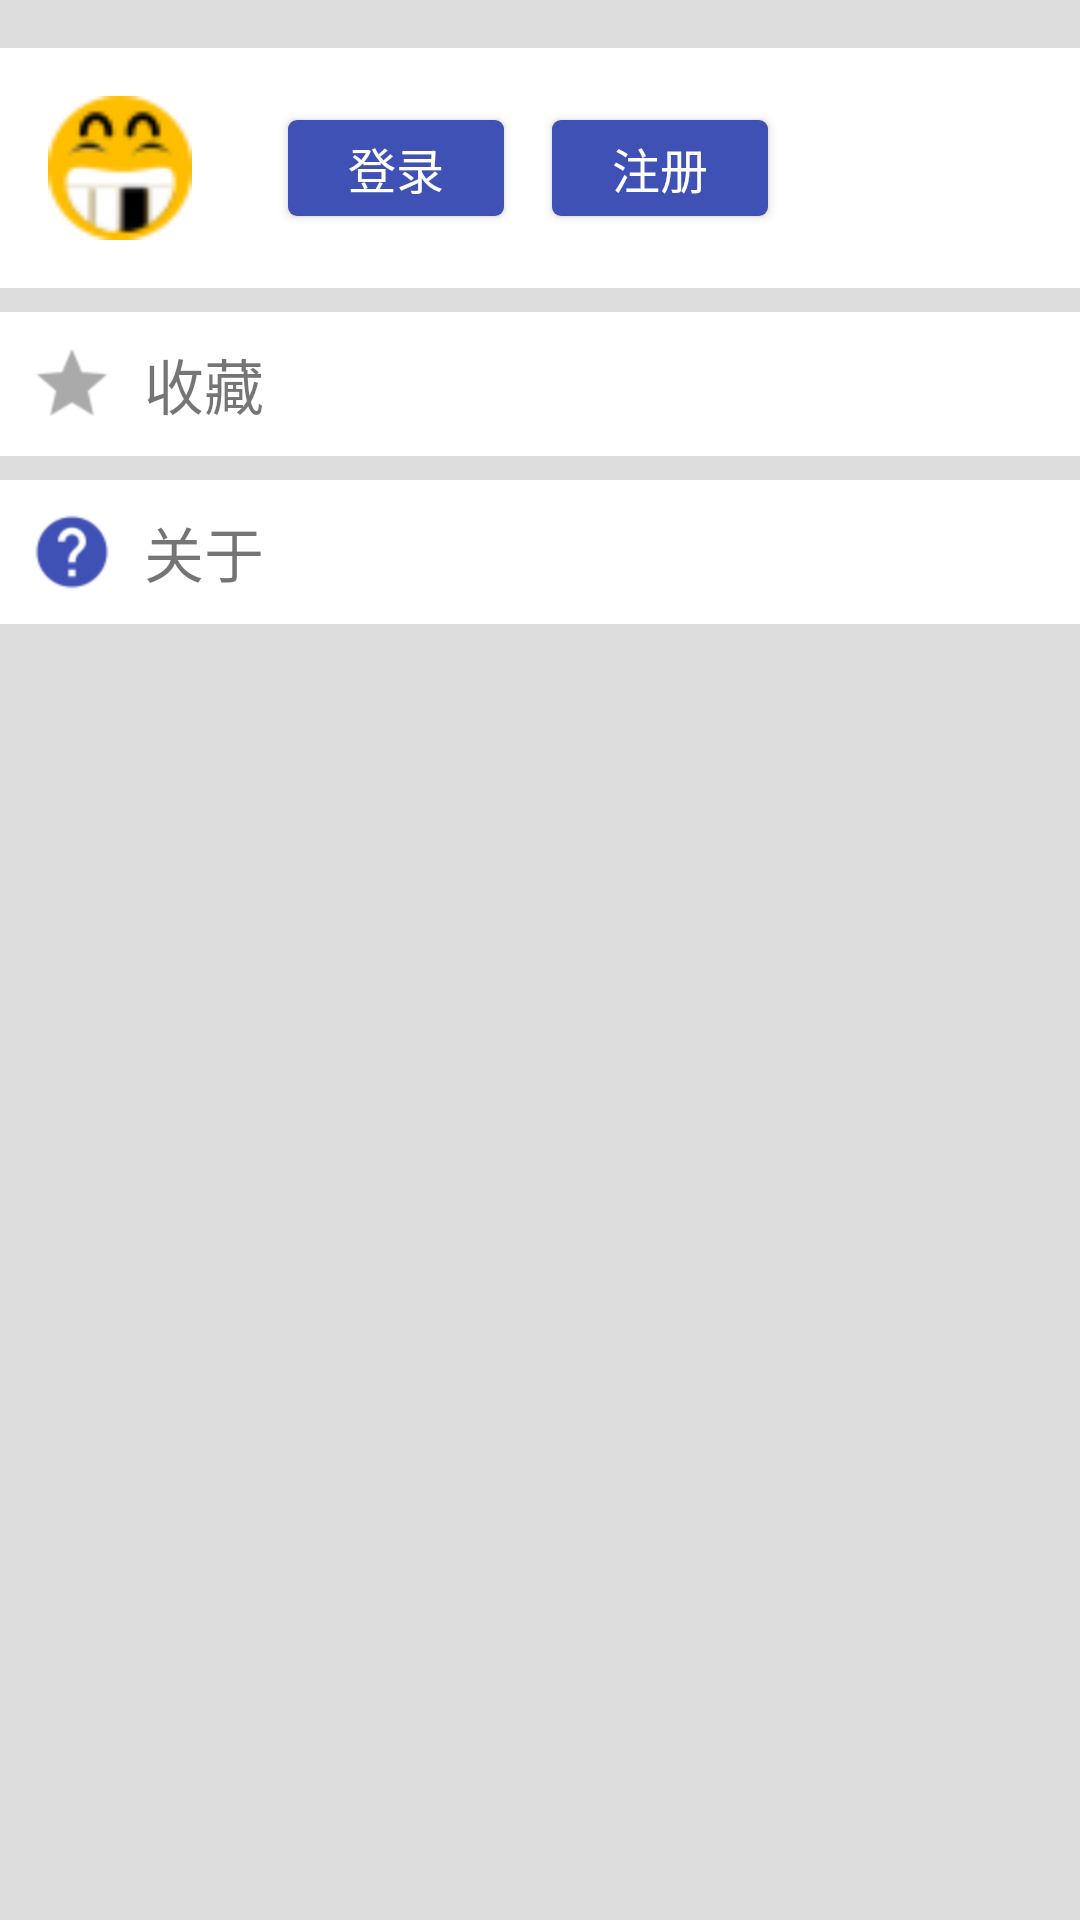

Icon bounding boxes for this 1080px x 1920px phone screenshot, format rect(x1, y1, x2, y2):
about: rect(36, 516, 108, 588)
star: rect(38, 350, 106, 415)
